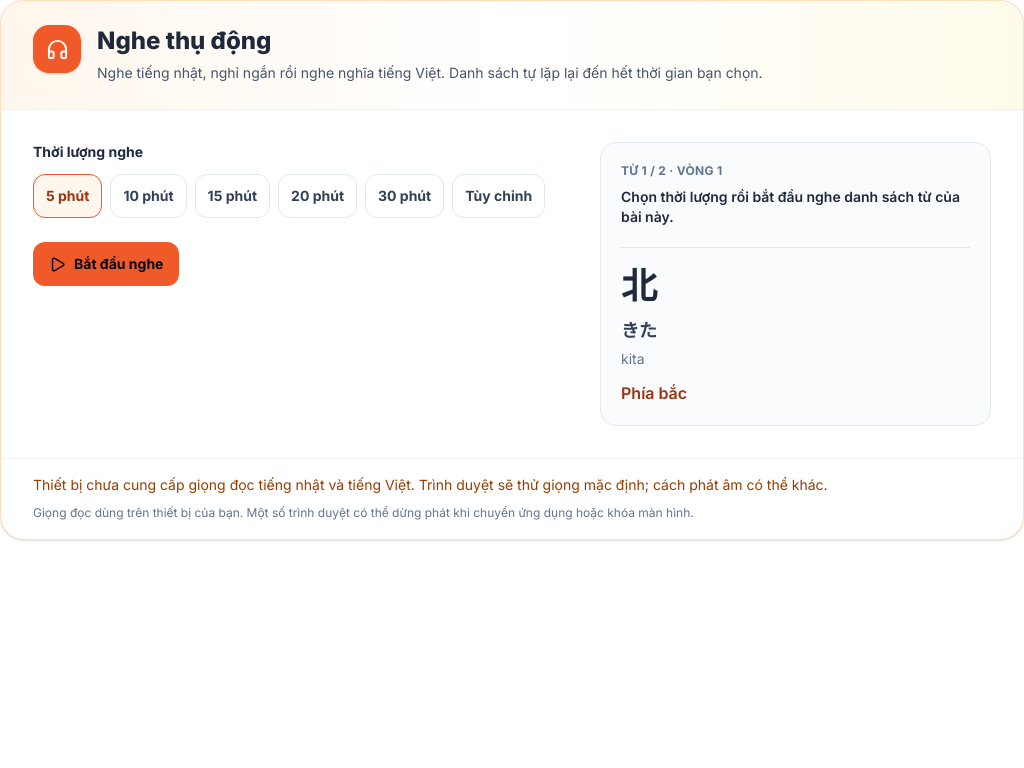
Test: PassiveListeningMode › warns about fallback voices and rejects a custom duration outside 1–60 minutes
The image size is (1024, 768).
Expected: the text "chưa cung cấp giọng đọc tiếng nhật và tiếng Việt" is shown, [33,476,828,493]
Click the button "Tùy chỉnh". click: coordinates (499, 196)
box: [452,174,545,218]
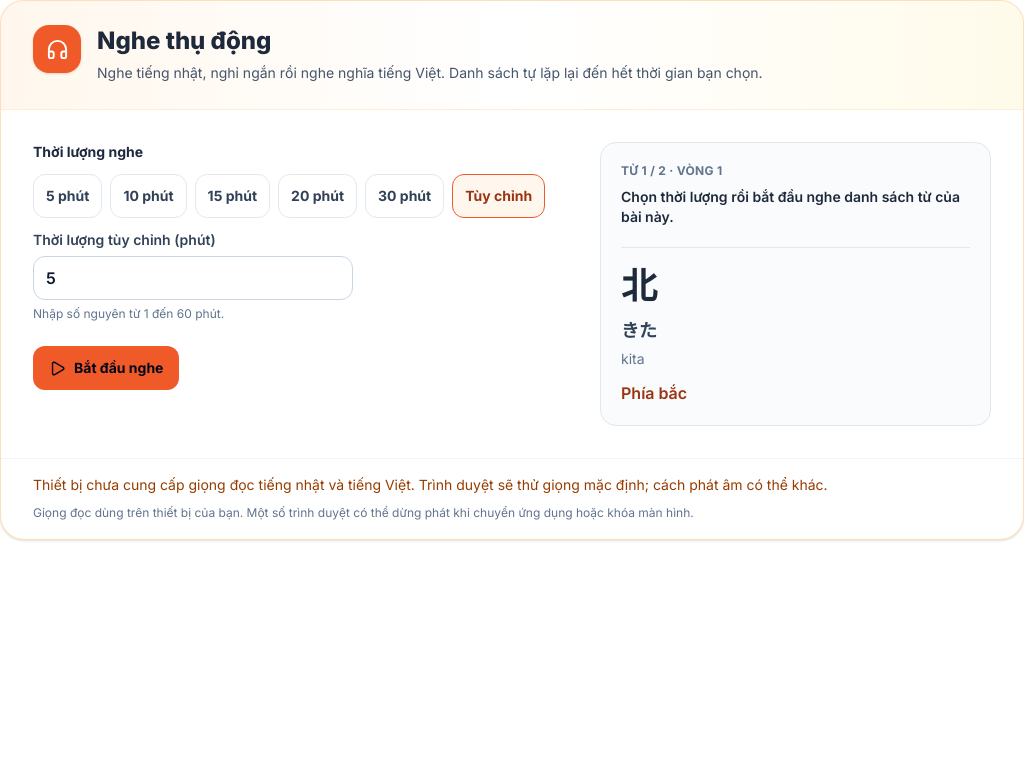
Replace the text in the number field labelled "Thời lượng tùy chỉnh (phút) Nhập số nguyên từ 1 đến 60 phút." with "61". click: coordinates (193, 278)
box: [33,256,353,300]
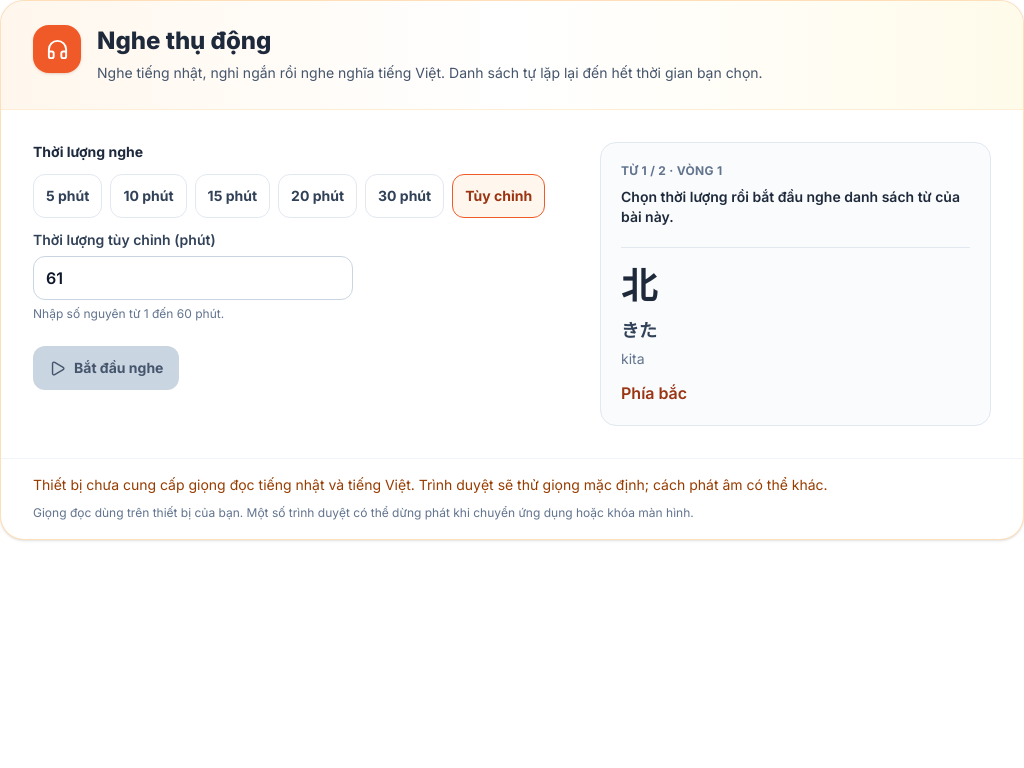
Now the button "Bắt đầu nghe" is disabled, box [33,346,179,390]
